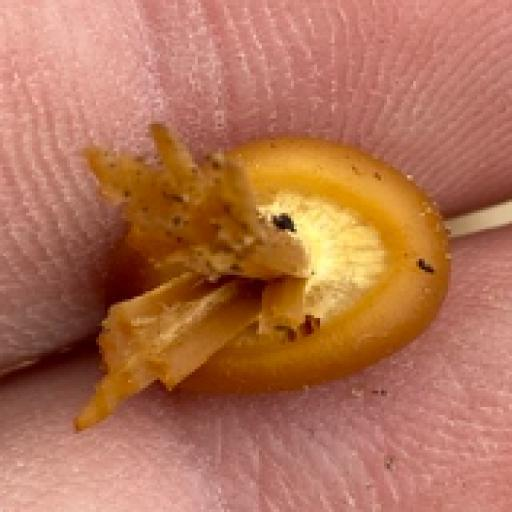mushroom: (68, 109, 461, 432)
